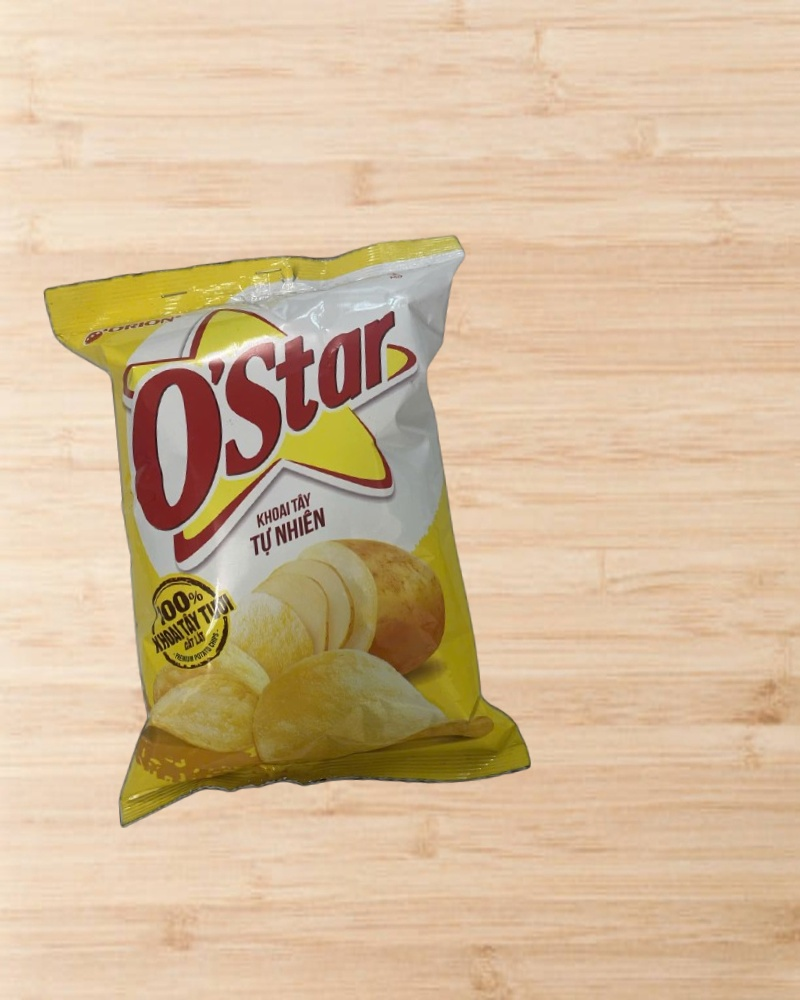O'star: (44, 233, 533, 830)
